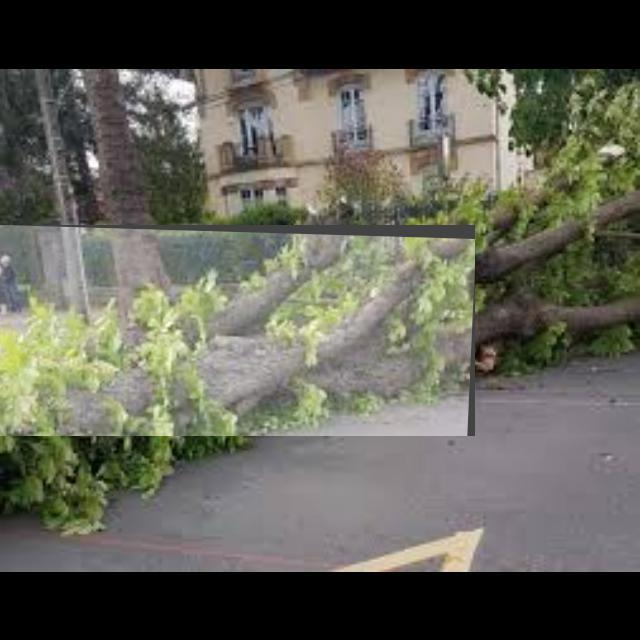fallen_tree: (0, 225, 476, 437)
